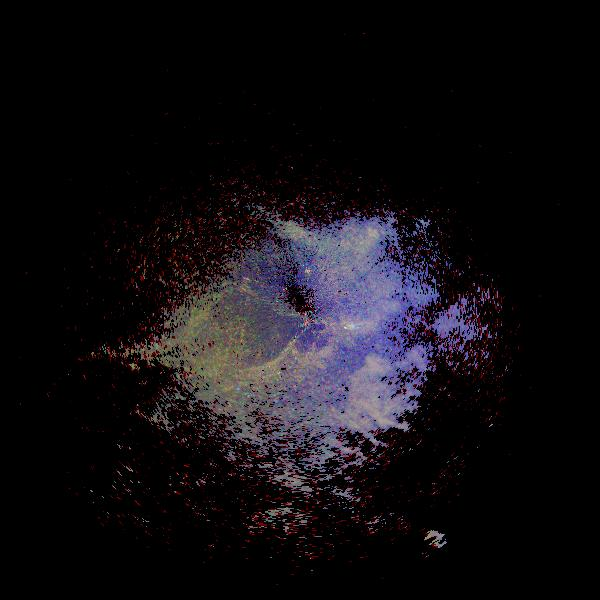roost: (412, 524, 451, 563), (346, 321, 358, 333)
